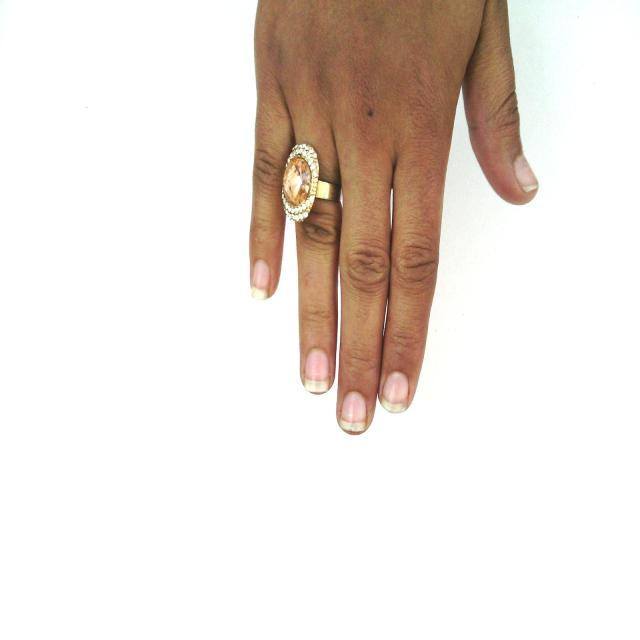Fingernail: (304, 349, 330, 393), (381, 372, 409, 412), (341, 391, 366, 433), (515, 156, 537, 191), (252, 261, 270, 300)
